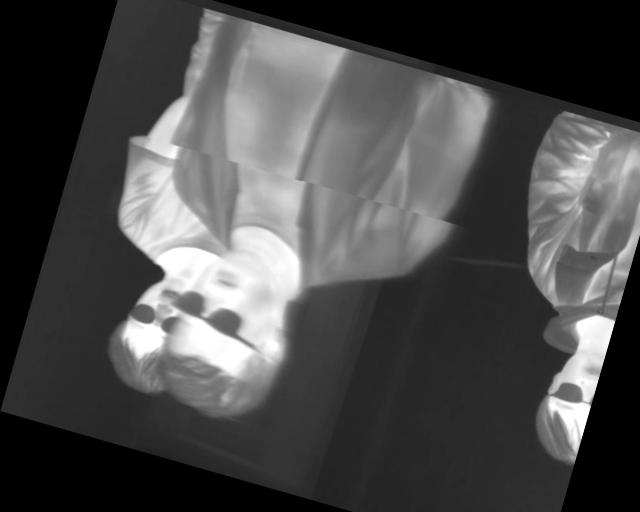face: (152, 239, 309, 434), (96, 266, 194, 401), (524, 339, 605, 467)
